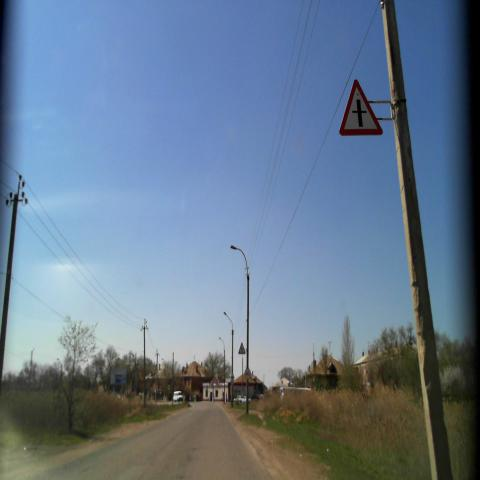2_3: (338, 76, 384, 136)
